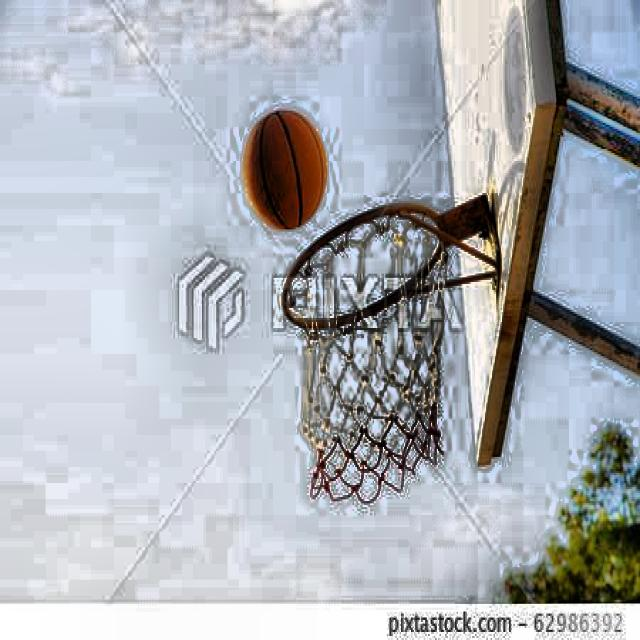board: (242, 107, 328, 230)
rim: (281, 200, 449, 496)
